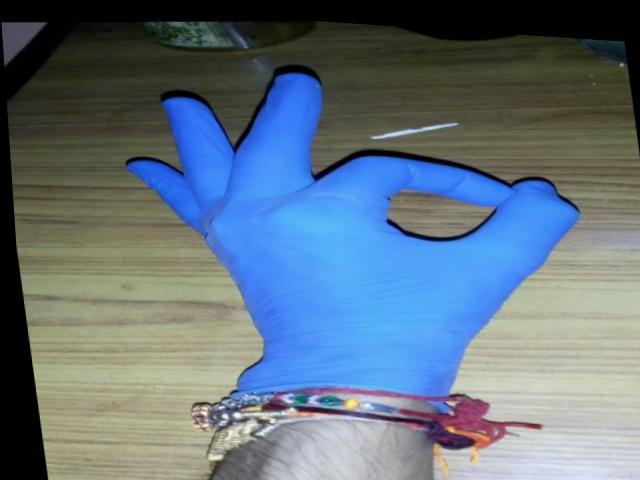Hand-in-Glove: (100, 29, 612, 426)
